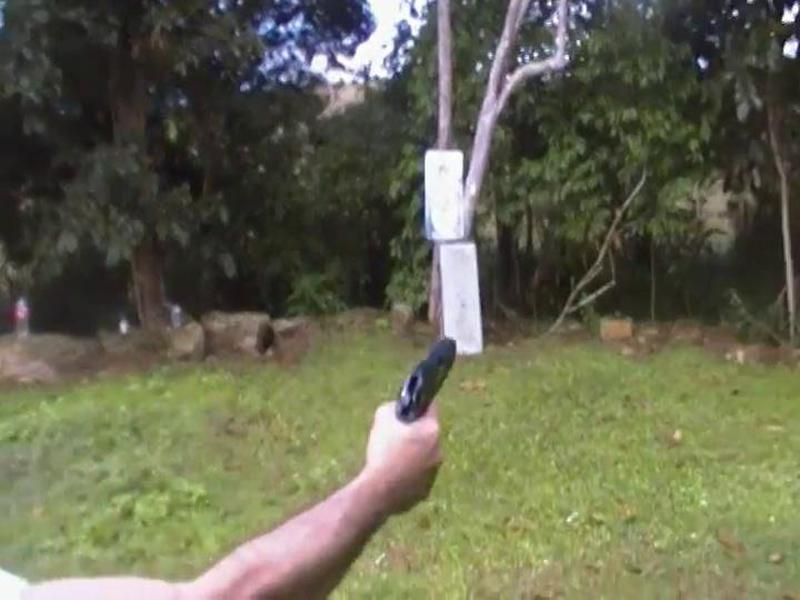Pistola: (396, 325, 468, 421)
